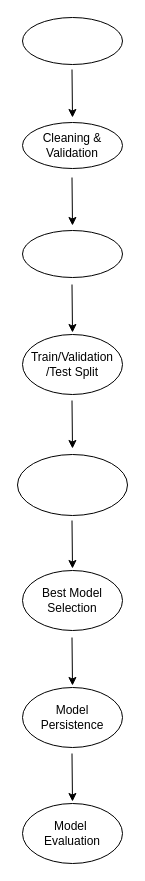
This 145x881 diagram has some shape labels left out. The centre of each missing label's shape, as x and y in pixels:
"Feature Engineering" goes at (72,254).
"Model Training (Multiple Models)" goes at (72,485).
"Raw Data" goes at (72,40).
